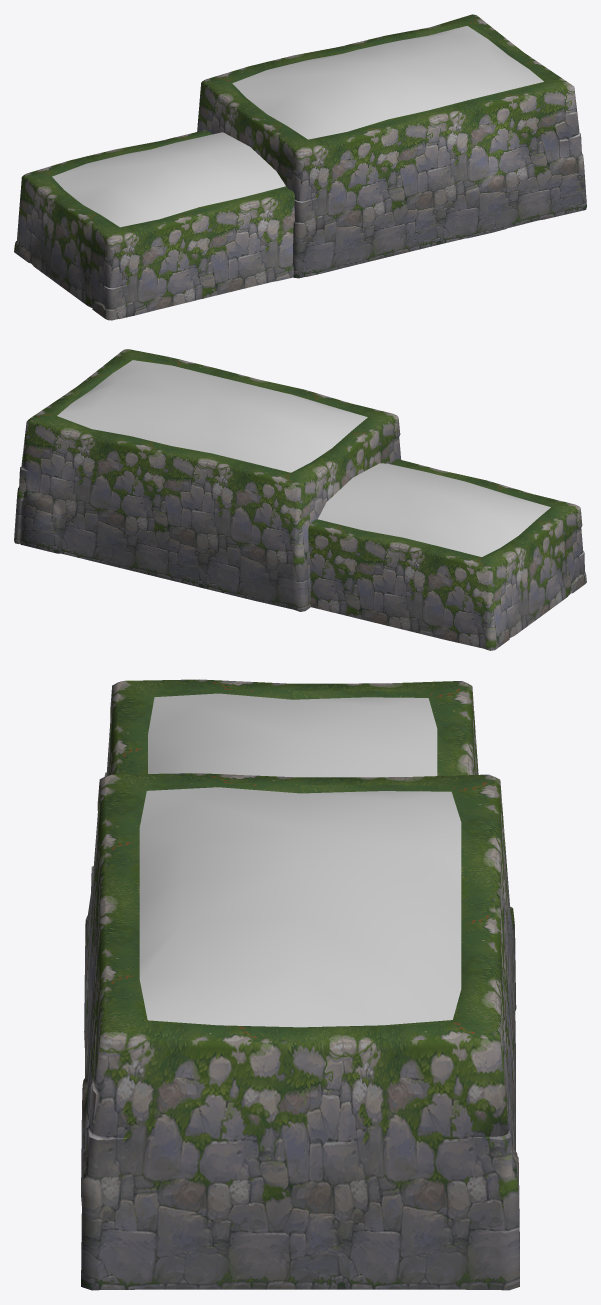
File: hbxz_jz001_03.FBX
3 views of the same model, one above another, from view 1: azimuth 30°, elevation 25°; view 2: azimuth 150°, elevation 25°; view 3: azimuth 270°, elevation 25° (orthographic). The views are drawn at different scales.
Visible parts, largest first — view 1: hbxz_jz001_03; view 2: hbxz_jz001_03; view 3: hbxz_jz001_03.
Part boxes in pixels (left/top/right/bottom): hbxz_jz001_03: left=14, top=14, right=586, bottom=320; hbxz_jz001_03: left=14, top=349, right=586, bottom=650; hbxz_jz001_03: left=81, top=679, right=519, bottom=1290.
Bounding box in the file's own units: 1397 × 395 × 561.
